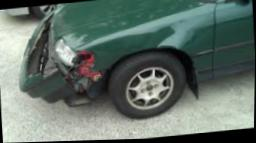Bumper: (20, 10, 96, 107)
Fender: (89, 6, 212, 83)
Light: (52, 39, 104, 82)
